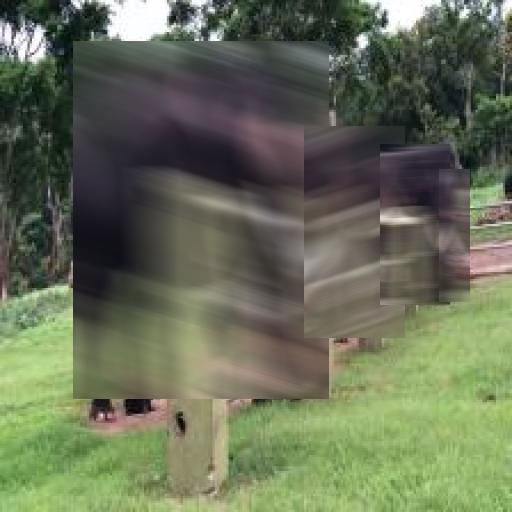Elephant: (73, 41, 329, 399), (304, 126, 405, 338), (380, 144, 450, 305), (439, 169, 470, 302)
